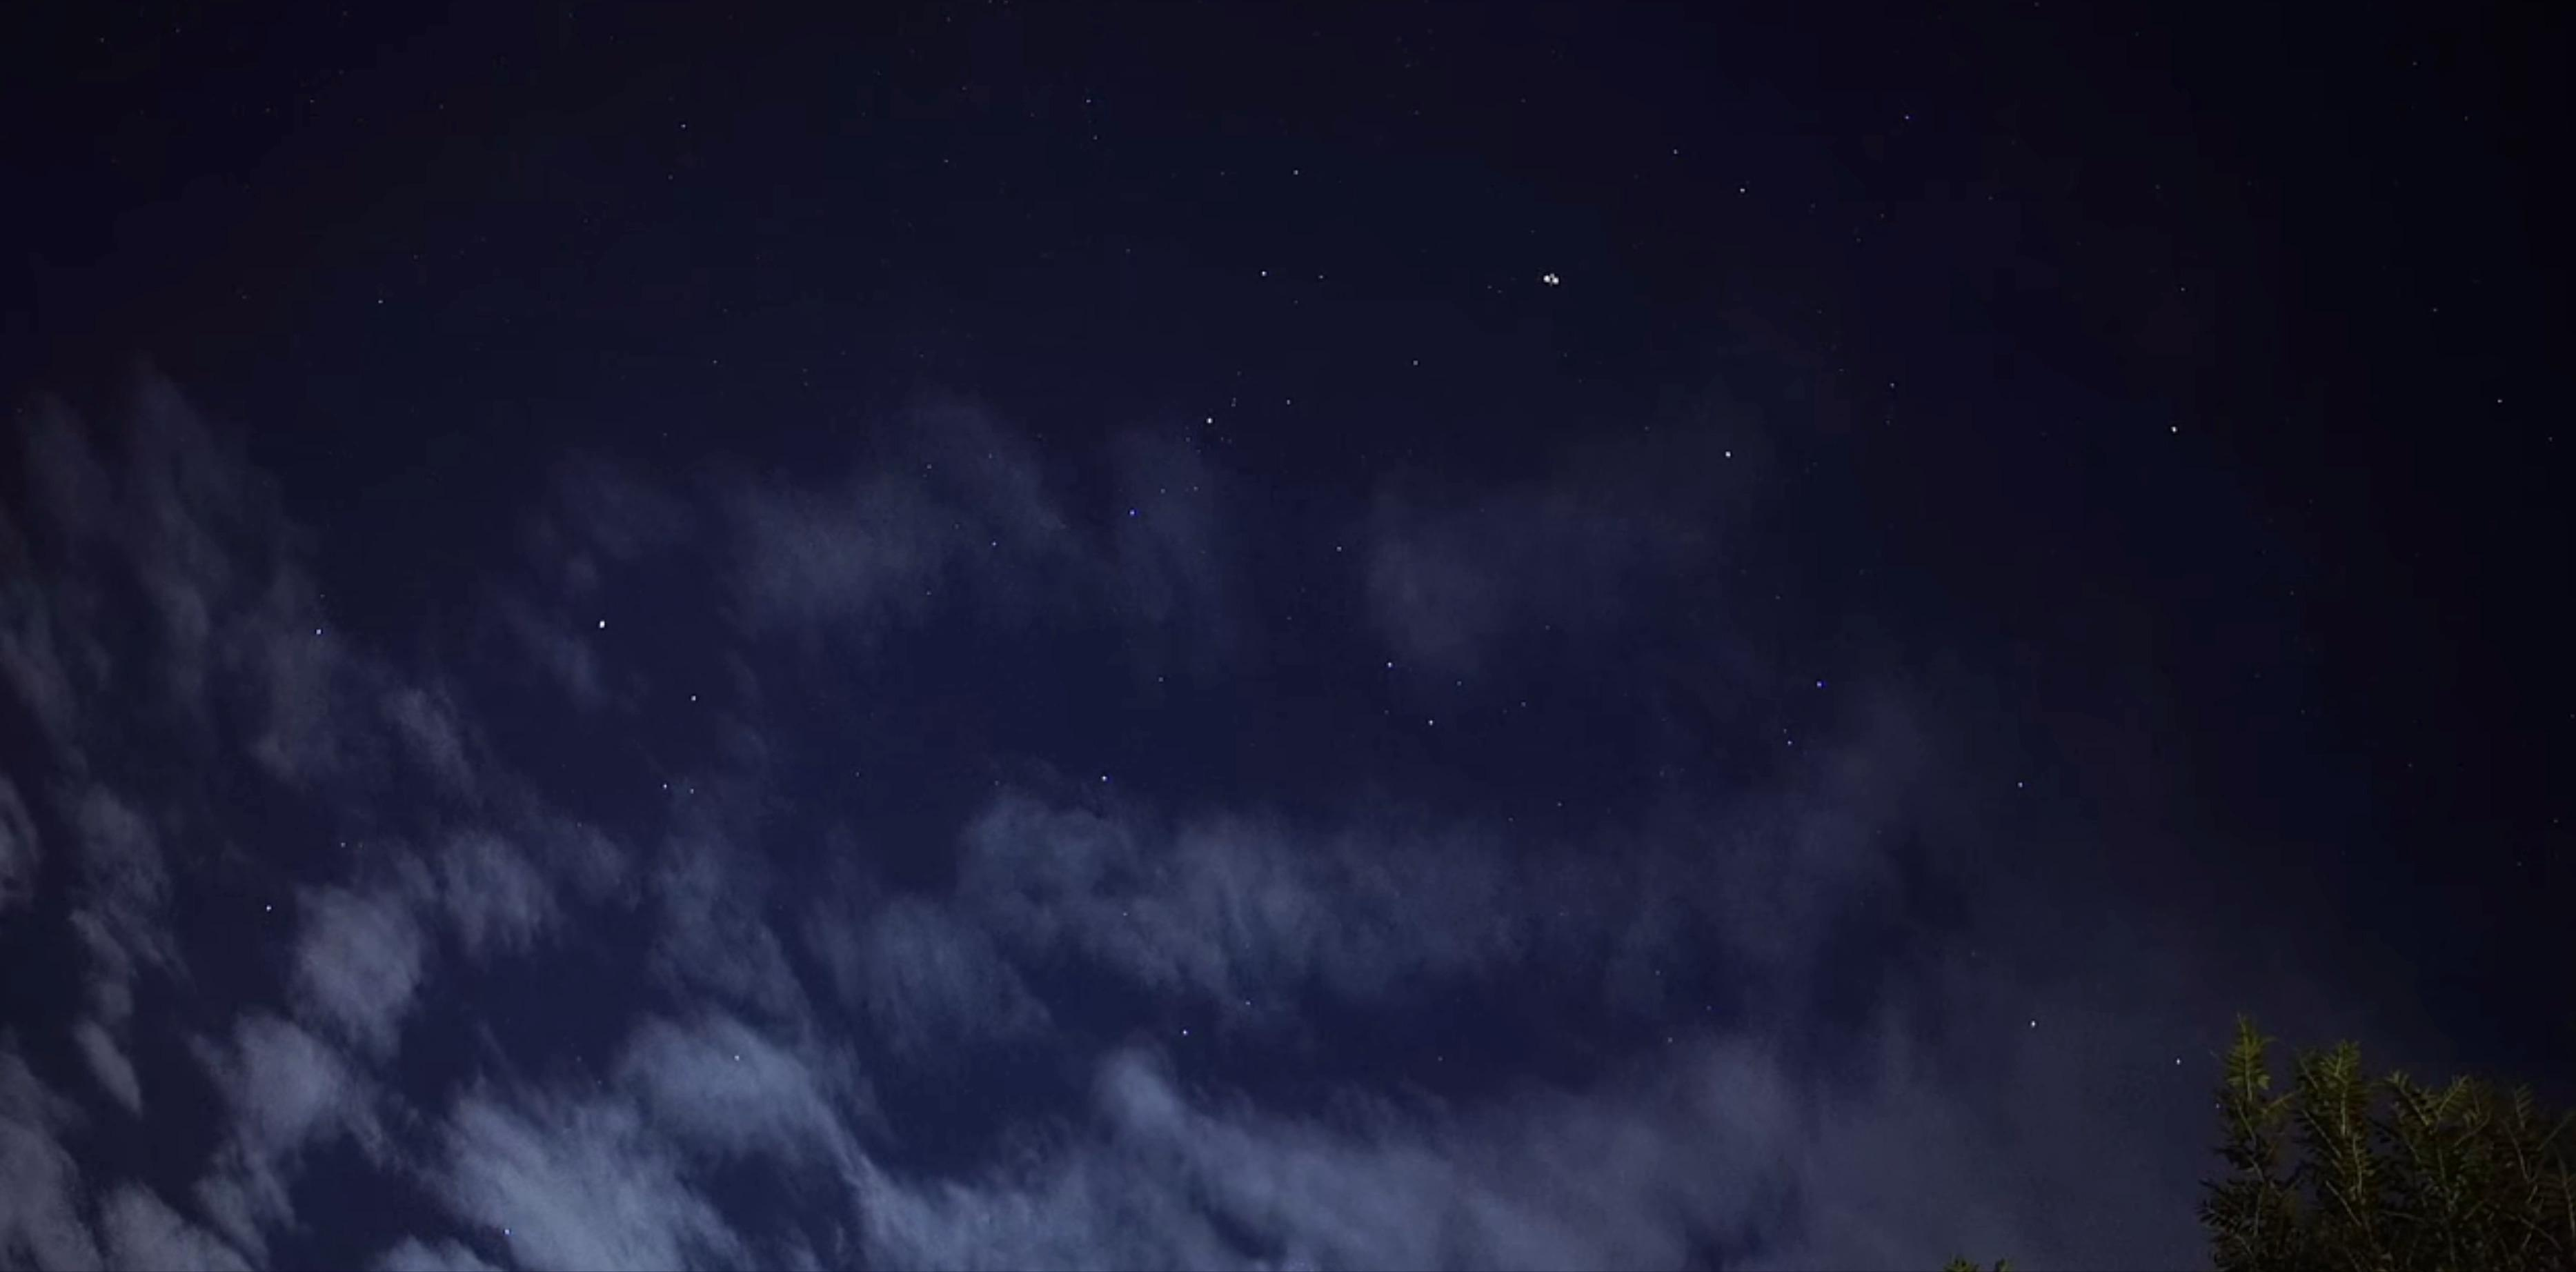Plane: (1523, 261, 1597, 293)
